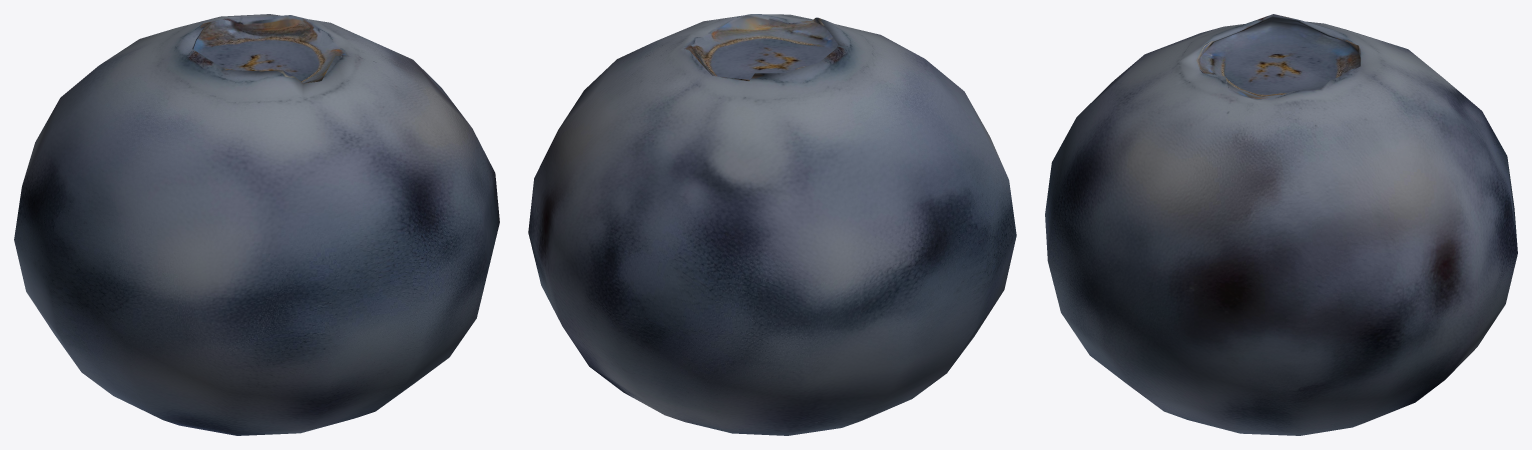
Rendered from blueberry-300T.fbx.
3 views of the same model, side by side, from view 1: azimuth 30°, elevation 25°; view 2: azimuth 150°, elevation 25°; view 3: azimuth 270°, elevation 25° (orthographic).
Parts seen in each view (by area): view 1: tripo_node_04afc67d; view 2: tripo_node_04afc67d; view 3: tripo_node_04afc67d.
Part boxes in pixels (x1,y1,x2,y2): tripo_node_04afc67d: (14,14,499,435); tripo_node_04afc67d: (528,14,1016,435); tripo_node_04afc67d: (1045,14,1517,435).
Size of the model in its own units: 0.9971 by 0.7841 by 0.9797.
1 material, 1 textured.
